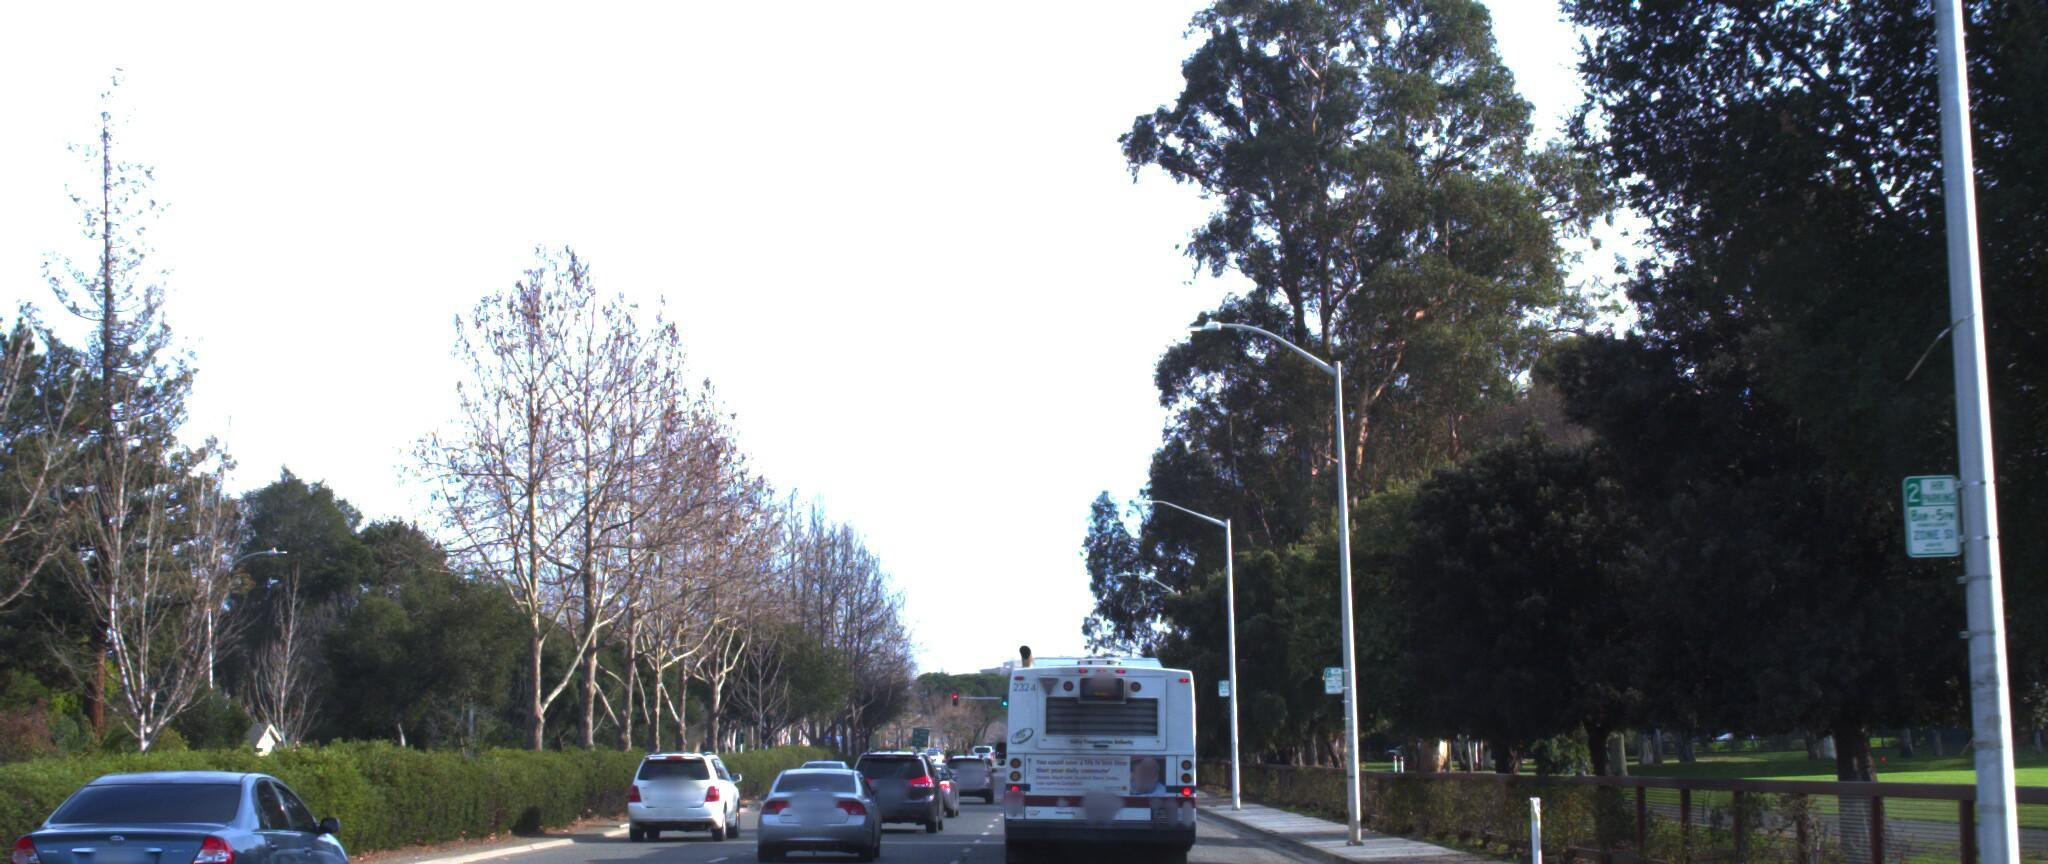bus: (984, 626, 1208, 864)
car: (0, 757, 380, 864), (744, 745, 884, 850), (632, 741, 750, 837), (856, 730, 950, 818)
